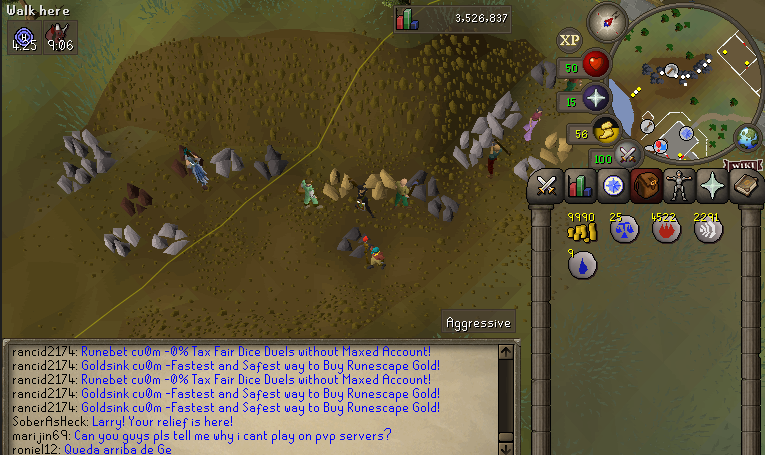depleted: (331, 225, 378, 265), (250, 140, 292, 181), (406, 164, 439, 205), (424, 190, 461, 226), (531, 59, 560, 93)
iron: (118, 178, 159, 222), (169, 142, 206, 183)
